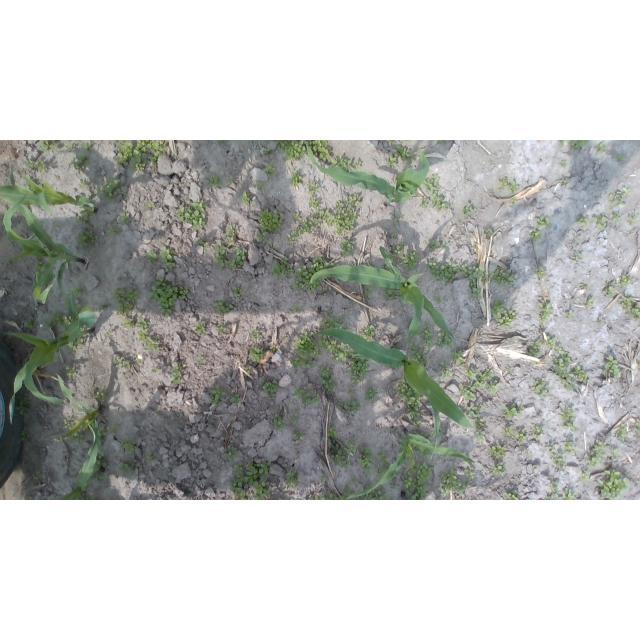Maize: (311, 246, 458, 362), (312, 326, 469, 426), (0, 291, 100, 424), (344, 428, 477, 500), (0, 195, 86, 303), (301, 140, 431, 205), (0, 163, 98, 213), (57, 424, 104, 500), (52, 374, 101, 443), (400, 492, 412, 501)
Weeds: (113, 140, 167, 172), (232, 461, 273, 500), (149, 277, 188, 318), (291, 333, 322, 370), (404, 462, 433, 500), (336, 193, 361, 236), (318, 334, 353, 363), (424, 175, 451, 212), (598, 468, 629, 500), (176, 200, 209, 229), (331, 437, 359, 469), (400, 374, 423, 411), (76, 210, 96, 249), (113, 285, 139, 315), (490, 299, 515, 329), (287, 218, 313, 245), (428, 261, 458, 284), (257, 208, 284, 233), (100, 176, 124, 204), (346, 359, 370, 387), (585, 441, 607, 471), (276, 140, 307, 161), (552, 348, 573, 377), (546, 442, 567, 470), (564, 365, 588, 389), (293, 387, 319, 408), (466, 370, 494, 389), (308, 141, 333, 162), (43, 309, 72, 327), (292, 265, 312, 291), (313, 209, 336, 231), (138, 329, 160, 352), (319, 364, 337, 392), (460, 265, 489, 282), (272, 257, 294, 279), (408, 340, 428, 364), (489, 270, 515, 288), (501, 425, 527, 443), (559, 407, 577, 432), (418, 326, 435, 351), (440, 470, 457, 494), (311, 258, 336, 274), (401, 252, 420, 273), (168, 363, 186, 385), (603, 355, 621, 377), (538, 299, 555, 322), (213, 243, 228, 269), (68, 423, 89, 441), (25, 158, 50, 173), (321, 312, 343, 329), (503, 404, 525, 421), (360, 447, 374, 473), (160, 250, 177, 271), (329, 156, 351, 172), (209, 383, 225, 405), (212, 299, 235, 314), (532, 381, 551, 399), (339, 401, 361, 416), (72, 153, 89, 172), (271, 412, 287, 432), (258, 380, 278, 396), (248, 345, 265, 363), (435, 332, 454, 348), (615, 422, 629, 443), (340, 238, 356, 256), (607, 192, 625, 208), (365, 488, 388, 500), (526, 341, 542, 358), (14, 400, 30, 417), (224, 445, 239, 463), (460, 385, 477, 400), (360, 325, 375, 342), (603, 281, 618, 298), (397, 145, 412, 162), (286, 468, 298, 489), (235, 249, 248, 268), (438, 361, 453, 377), (384, 287, 401, 301), (532, 424, 545, 442), (415, 448, 433, 461), (225, 224, 236, 245), (593, 217, 608, 232), (535, 215, 551, 229), (120, 440, 137, 453), (475, 419, 485, 441), (569, 140, 587, 152), (114, 356, 132, 368), (67, 339, 85, 351), (488, 446, 506, 458), (207, 173, 222, 187), (618, 296, 632, 311), (93, 469, 107, 484), (39, 141, 58, 152), (290, 172, 303, 188), (365, 386, 377, 403), (451, 349, 465, 363), (564, 440, 578, 454), (492, 463, 506, 477), (193, 321, 207, 335), (465, 406, 480, 419), (409, 412, 422, 427), (429, 428, 444, 441), (96, 451, 107, 468), (308, 279, 322, 292), (543, 336, 557, 349), (118, 460, 132, 473), (470, 283, 482, 298), (391, 216, 404, 229), (95, 391, 108, 404), (462, 203, 474, 217), (563, 488, 577, 500), (428, 238, 440, 252), (231, 283, 243, 297), (135, 318, 149, 330), (457, 482, 468, 497), (504, 490, 520, 500), (392, 244, 404, 257), (534, 267, 547, 279), (146, 252, 159, 264), (266, 164, 277, 178), (619, 275, 633, 286), (530, 228, 541, 242), (249, 329, 263, 340), (497, 178, 507, 193), (239, 190, 249, 205), (465, 467, 475, 482), (340, 493, 361, 500), (632, 419, 640, 437), (34, 259, 45, 272), (255, 232, 268, 243), (78, 179, 91, 190), (119, 212, 130, 225), (290, 411, 300, 425), (106, 227, 120, 237), (309, 492, 326, 500), (631, 304, 640, 319), (22, 428, 31, 443), (420, 196, 431, 208), (508, 183, 520, 194), (72, 285, 84, 296), (596, 142, 609, 152), (195, 238, 209, 247), (629, 215, 640, 226), (255, 181, 266, 192), (81, 141, 92, 152), (97, 427, 109, 437), (387, 156, 397, 168), (123, 318, 135, 328), (309, 197, 320, 207), (307, 183, 318, 193), (31, 470, 41, 481), (228, 260, 237, 272), (64, 364, 72, 377), (232, 394, 242, 404), (328, 427, 338, 437), (577, 217, 588, 226), (326, 492, 338, 500), (609, 451, 619, 460), (581, 472, 590, 482), (111, 426, 121, 435), (294, 432, 304, 441), (376, 451, 386, 460), (376, 467, 385, 477), (61, 420, 71, 429), (488, 384, 498, 393), (291, 213, 302, 221), (383, 460, 390, 472), (612, 212, 621, 221), (572, 252, 582, 260), (26, 319, 34, 329), (197, 356, 207, 364), (74, 303, 82, 313), (549, 493, 560, 500), (270, 344, 279, 352), (510, 198, 519, 206), (549, 482, 557, 491), (292, 305, 301, 313), (587, 298, 594, 308), (485, 228, 493, 236), (623, 187, 631, 195), (559, 160, 567, 168), (352, 159, 360, 167), (145, 452, 153, 460), (146, 202, 154, 210), (365, 288, 373, 296), (244, 366, 251, 375), (353, 477, 360, 486), (416, 431, 425, 438), (81, 493, 90, 500), (389, 483, 399, 489), (567, 310, 574, 318), (506, 367, 514, 374), (434, 140, 448, 144), (345, 484, 352, 492), (55, 222, 63, 229), (64, 145, 72, 152), (227, 176, 233, 185), (392, 345, 401, 351), (562, 179, 571, 185), (216, 324, 225, 330), (320, 476, 329, 482), (347, 388, 354, 395), (435, 296, 441, 304), (579, 283, 587, 289), (573, 236, 580, 242), (618, 155, 624, 162), (443, 242, 450, 248), (391, 233, 398, 239), (263, 148, 270, 154), (388, 141, 396, 146), (560, 140, 566, 146), (105, 332, 112, 337), (599, 317, 604, 324), (269, 244, 274, 251), (28, 496, 35, 501), (151, 368, 159, 372), (474, 243, 479, 249), (412, 156, 417, 162), (295, 496, 301, 501), (344, 326, 349, 331), (532, 362, 537, 367), (217, 140, 223, 144), (268, 396, 273, 400), (100, 438, 104, 442)
